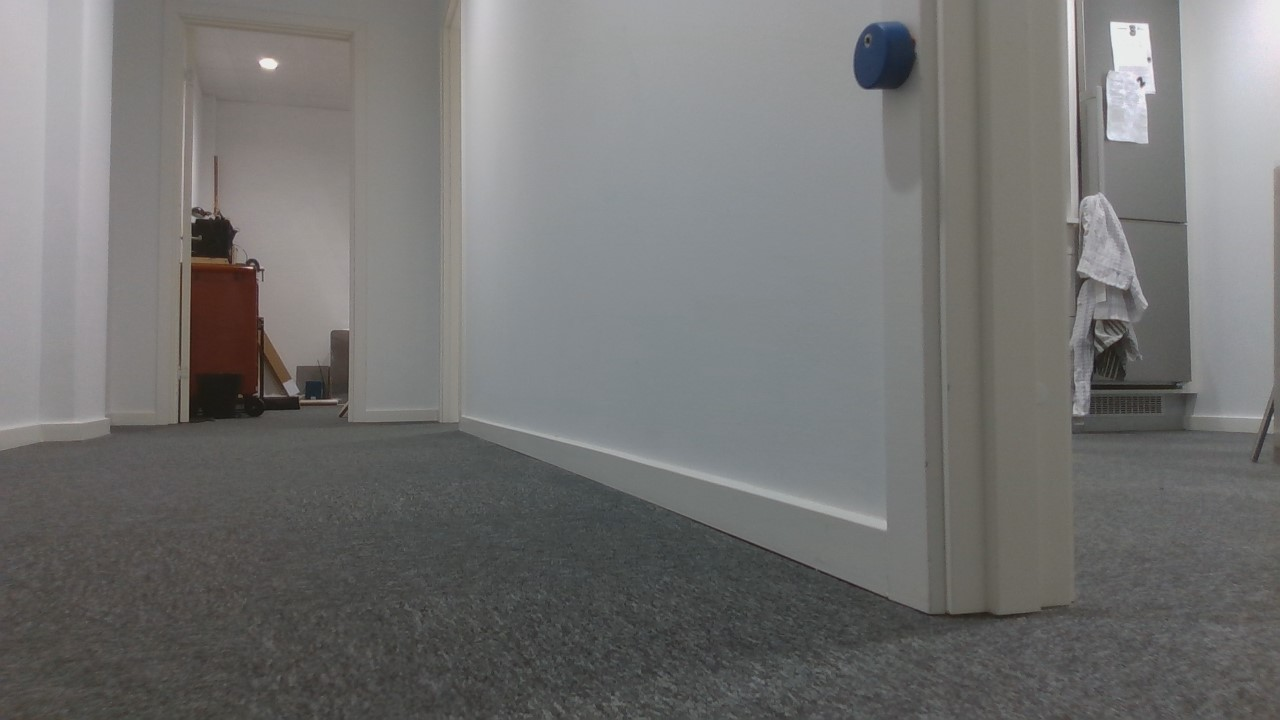alfa: (851, 17, 915, 93)
